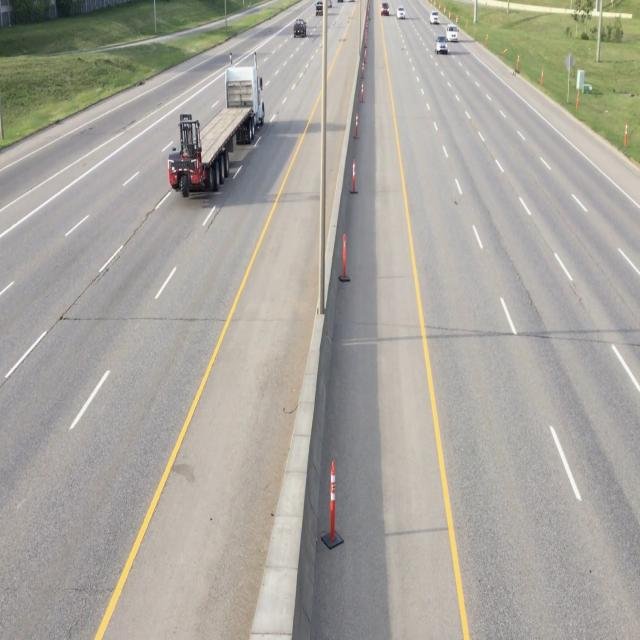Vehicle: (167, 52, 266, 200), (290, 16, 309, 41), (434, 35, 451, 56)
